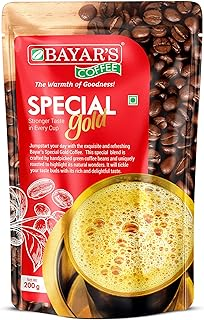Coffee: (1, 1, 204, 319)
